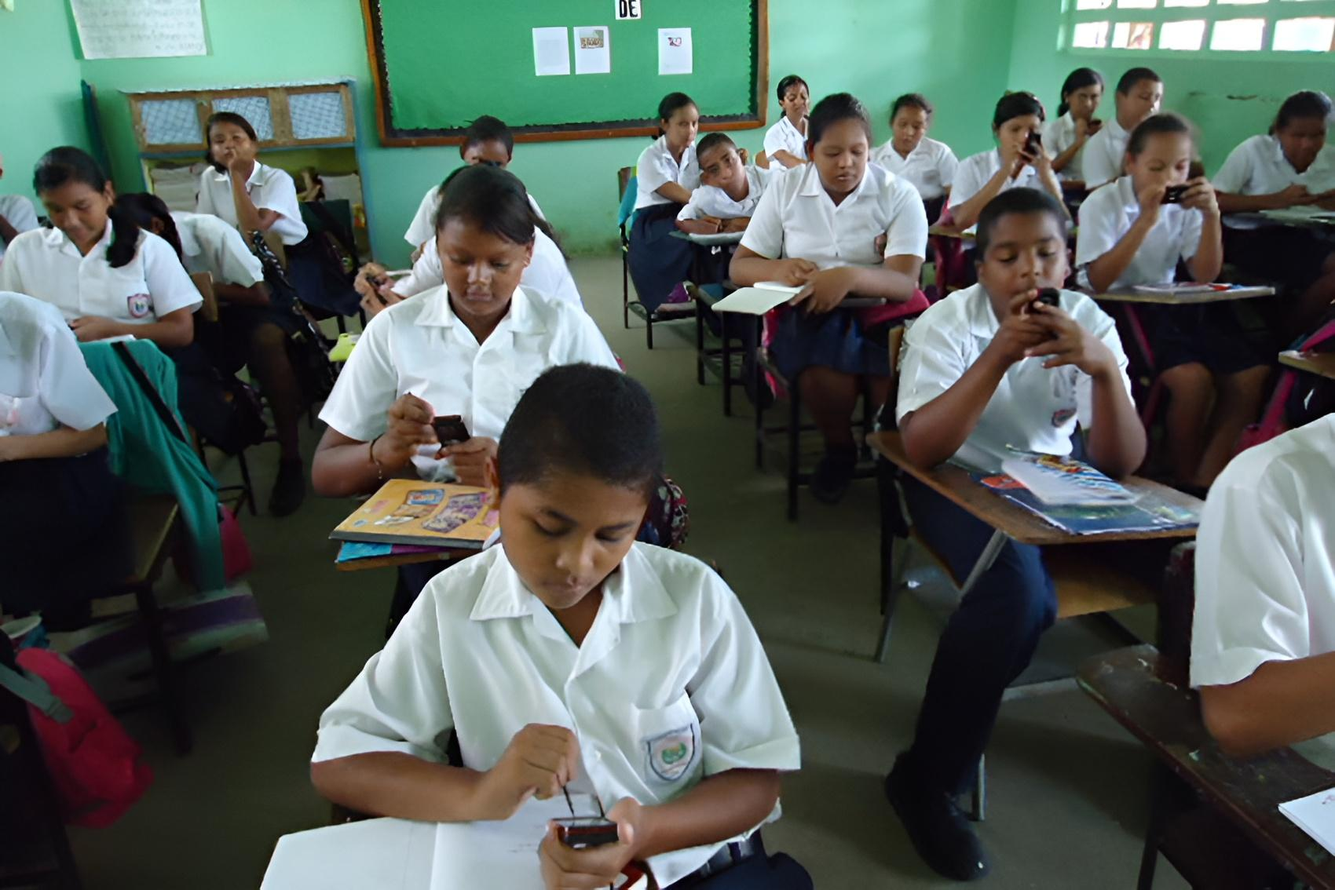phone: (315, 364, 799, 887), (310, 166, 622, 495), (895, 188, 1145, 493), (1075, 114, 1220, 287), (949, 90, 1056, 194), (1041, 63, 1106, 146)
study: (729, 92, 926, 295)
